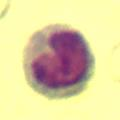monocyte: (20, 21, 98, 100)
